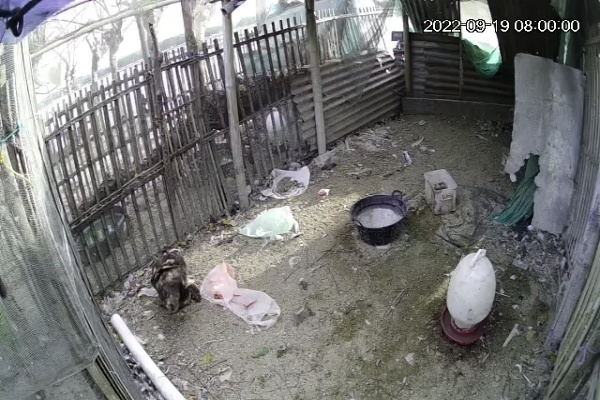Entog: (148, 238, 204, 322)
